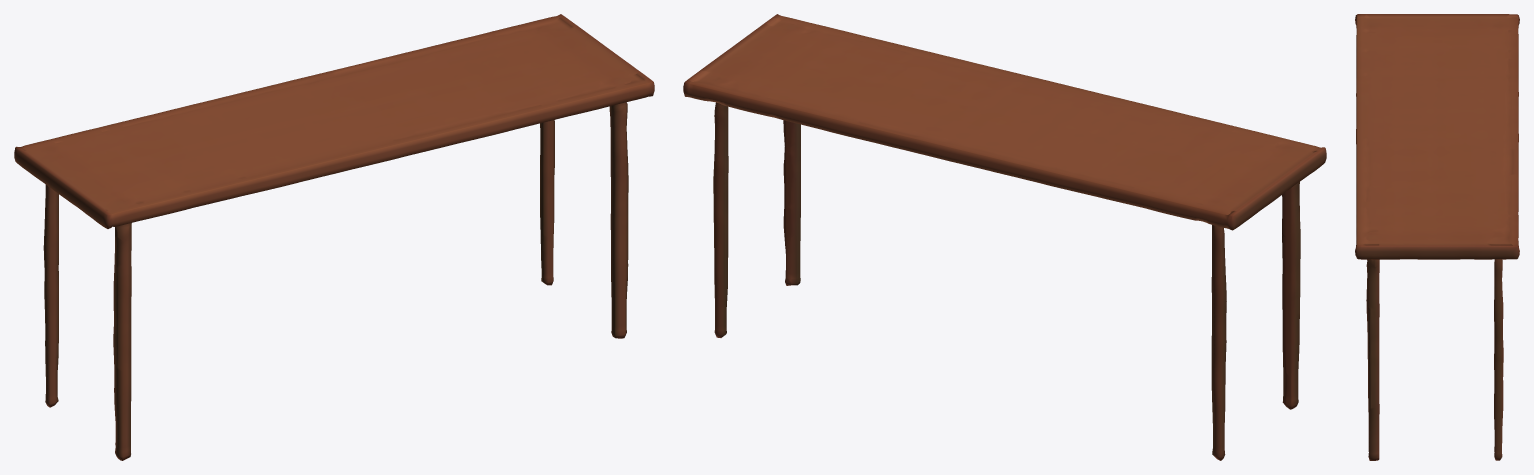
Rendered from Rectangular wooden table with two legs, light brow.glb.
The picture shows the model from 3 angles, left to right: view 1: azimuth 30°, elevation 25°; view 2: azimuth 150°, elevation 25°; view 3: azimuth 270°, elevation 25°; orthographic projection. The views are drawn at different scales.
Visible parts, largest first — view 1: Rectangular wooden table with two legs, light brow; view 2: Rectangular wooden table with two legs, light brow; view 3: Rectangular wooden table with two legs, light brow.
Boxes of the visible parts, box(x1,y1,x2,y2) form: Rectangular wooden table with two legs, light brow: box(14, 14, 654, 460); Rectangular wooden table with two legs, light brow: box(683, 14, 1326, 460); Rectangular wooden table with two legs, light brow: box(1355, 14, 1519, 460).
Bounding box in the file's own units: 1.98 × 0.8902 × 0.5925.
